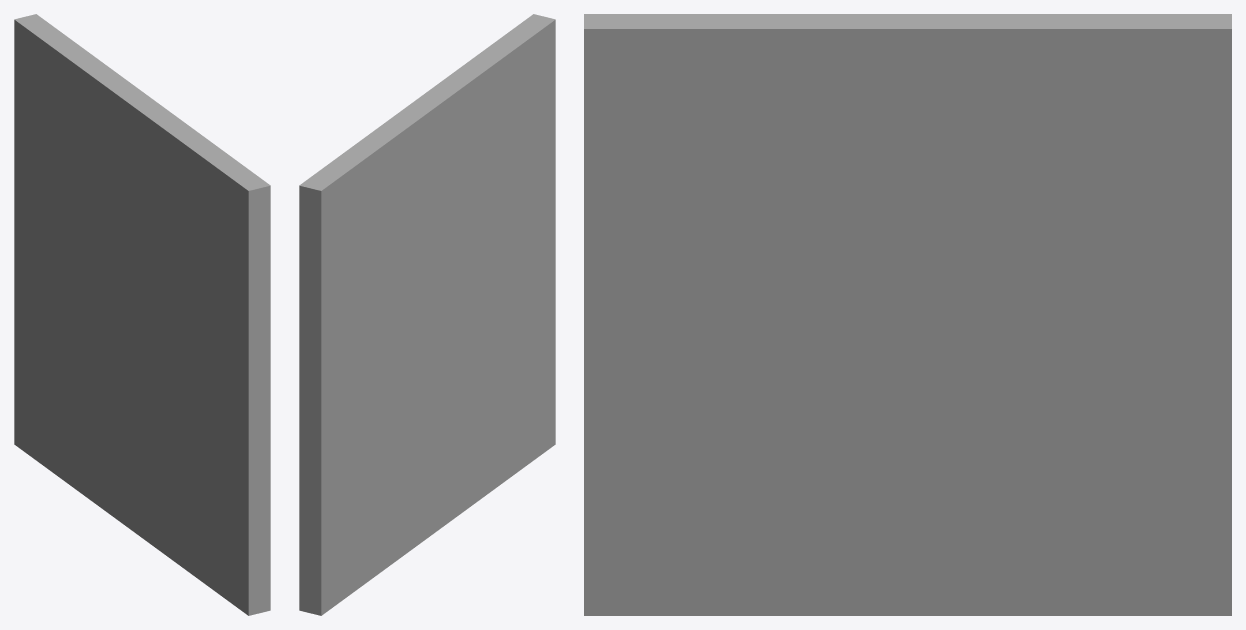
Rendered from Window01_3x3_light.fbx.
3 views of the same model, side by side, from view 1: azimuth 30°, elevation 25°; view 2: azimuth 150°, elevation 25°; view 3: azimuth 270°, elevation 25° (orthographic). The views are drawn at different scales.
Visible parts, largest first — view 1: Cube#2; view 2: Cube#2; view 3: Cube#2.
Part boxes in pixels (left/top/right/bottom): Cube#2: left=14, top=14, right=270, bottom=615; Cube#2: left=299, top=14, right=555, bottom=615; Cube#2: left=584, top=14, right=1231, bottom=615.
Bounding box in the file's own units: 0.3283 × 6 × 6.
2 materials, 2 textured.
